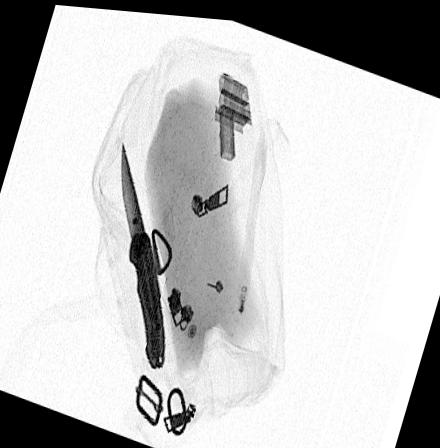Knife: (119, 137, 167, 368)
